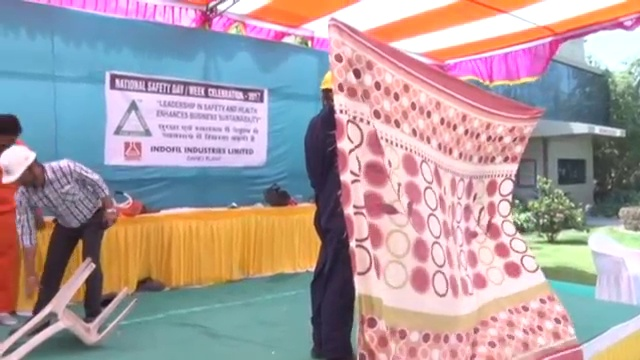helmet: (1, 142, 39, 184), (319, 69, 337, 90)
helmet_on: (1, 141, 48, 189), (1, 111, 26, 151), (318, 67, 336, 108)
person: (1, 143, 121, 333), (302, 69, 358, 359), (1, 115, 30, 328)
